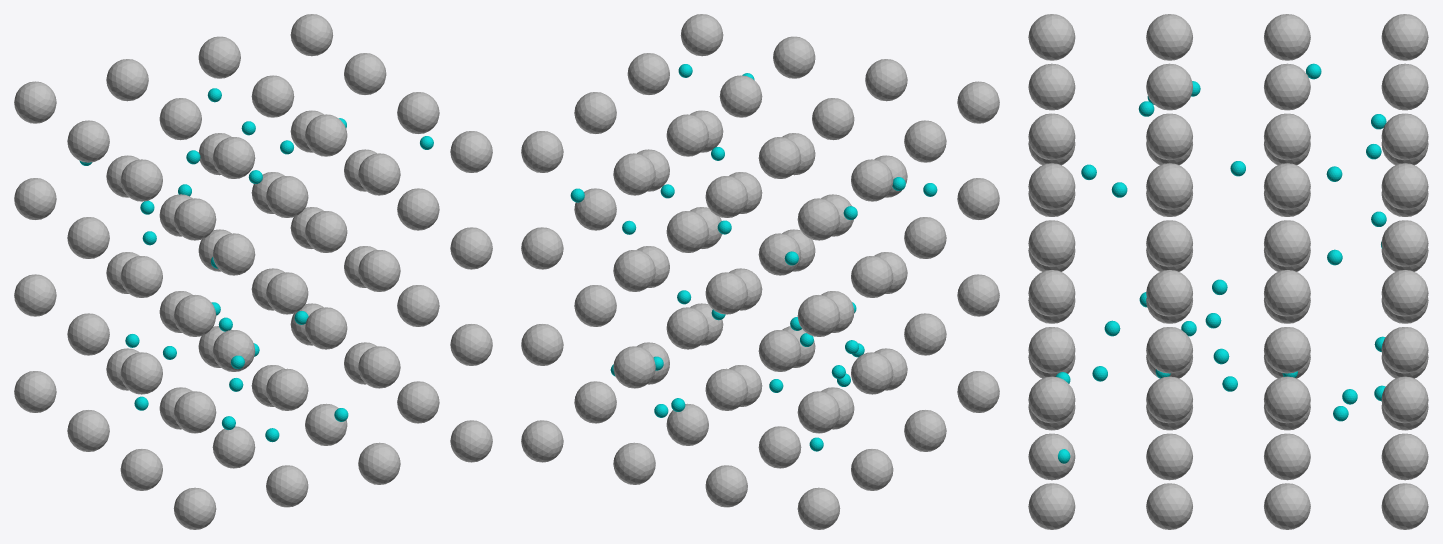
File: metallic_bonding.glb
3 views of the same model, side by side, from view 1: azimuth 30°, elevation 25°; view 2: azimuth 150°, elevation 25°; view 3: azimuth 270°, elevation 25° (orthographic). The views are drawn at different scales.
Visible parts, largest first — view 1: world; view 2: world; view 3: world.
Part boxes in pixels (bbox=[...]): world: bbox=[14, 14, 492, 529]; world: bbox=[521, 14, 999, 529]; world: bbox=[1028, 14, 1428, 529].
Size of the model in its own units: 5.1 by 5.1 by 5.1.
